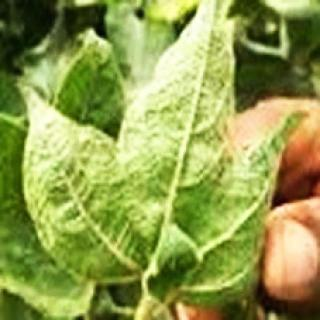curl: (24, 48, 264, 286)
